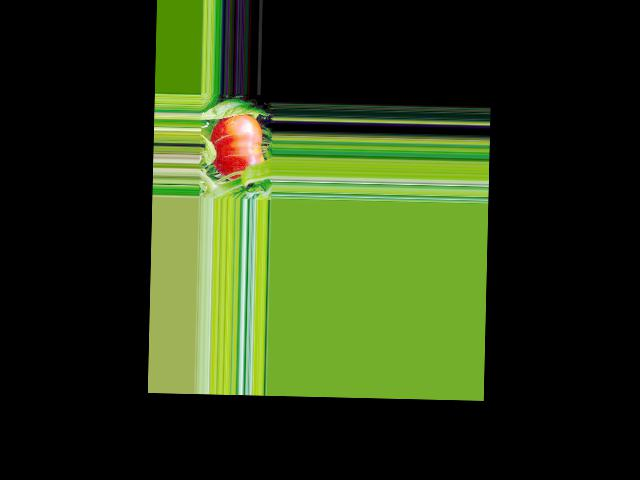tomato: (209, 113, 265, 181)
